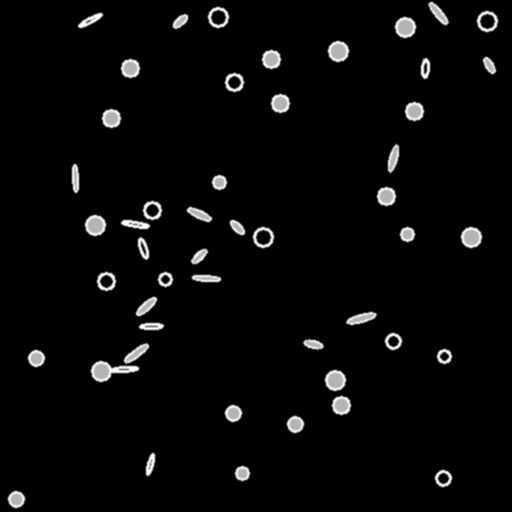pseudomonas: (123, 342, 149, 364), (427, 1, 449, 25), (135, 295, 157, 317), (186, 206, 212, 222), (386, 144, 400, 172), (347, 311, 375, 325), (78, 12, 102, 28), (190, 248, 208, 264), (121, 219, 149, 229), (137, 237, 149, 259), (229, 219, 245, 235), (172, 13, 188, 29), (482, 56, 496, 74), (303, 338, 323, 350), (145, 454, 155, 474), (110, 366, 138, 372), (192, 275, 220, 281), (421, 58, 429, 78), (72, 165, 78, 191), (140, 323, 162, 329)
synechocystis: (478, 12, 496, 30), (92, 362, 110, 380), (329, 42, 347, 60), (254, 228, 272, 246), (462, 228, 480, 246), (396, 18, 414, 36), (86, 216, 104, 234), (209, 8, 227, 26), (326, 371, 344, 389), (226, 74, 242, 90), (378, 188, 394, 204), (333, 397, 349, 413), (406, 103, 422, 119), (263, 51, 279, 67), (103, 110, 119, 126), (272, 95, 288, 111), (144, 202, 160, 218), (98, 273, 114, 289), (122, 60, 138, 76), (386, 334, 400, 348), (288, 417, 302, 431), (9, 492, 23, 506), (29, 351, 43, 365), (436, 471, 450, 485), (226, 406, 240, 420), (236, 467, 248, 479), (401, 228, 413, 240), (213, 176, 225, 188), (438, 350, 450, 362), (159, 273, 171, 285)
